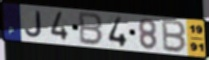4: (107, 15, 129, 48), (49, 11, 71, 43)
8: (137, 18, 159, 51)
B: (78, 11, 105, 47), (162, 18, 188, 54)
J: (24, 10, 44, 39)
